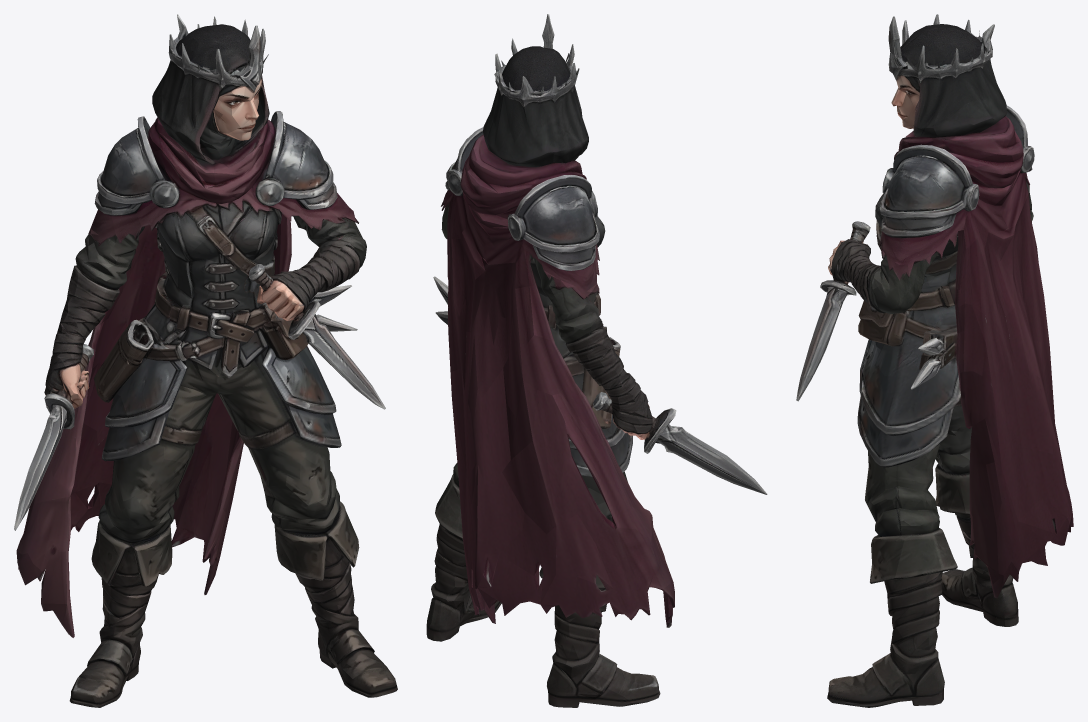
File: assassin_queen.glb
The picture shows the model from 3 angles, left to right: view 1: azimuth 30°, elevation 25°; view 2: azimuth 150°, elevation 25°; view 3: azimuth 270°, elevation 25°; orthographic projection. The views are drawn at different scales.
Parts seen in each view (by area): view 1: Mesh_0; view 2: Mesh_0; view 3: Mesh_0.
Part boxes in pixels (x1,y1,x2,y2): Mesh_0: (14, 14, 397, 707); Mesh_0: (426, 14, 767, 707); Mesh_0: (796, 14, 1073, 707).
Bounding box in the file's own units: 1.05 × 1.9 × 0.7471.
Materials: 1 (1 with a texture image).
